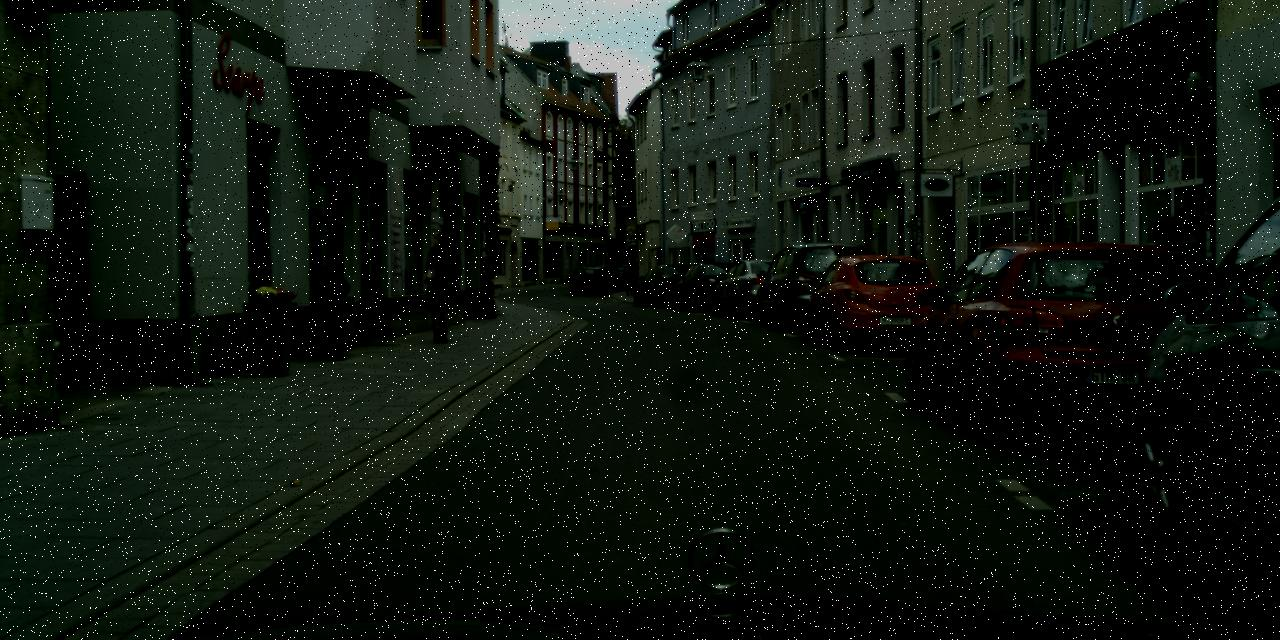ped: (1142, 217, 1200, 362), (421, 230, 466, 342), (622, 260, 636, 294)
